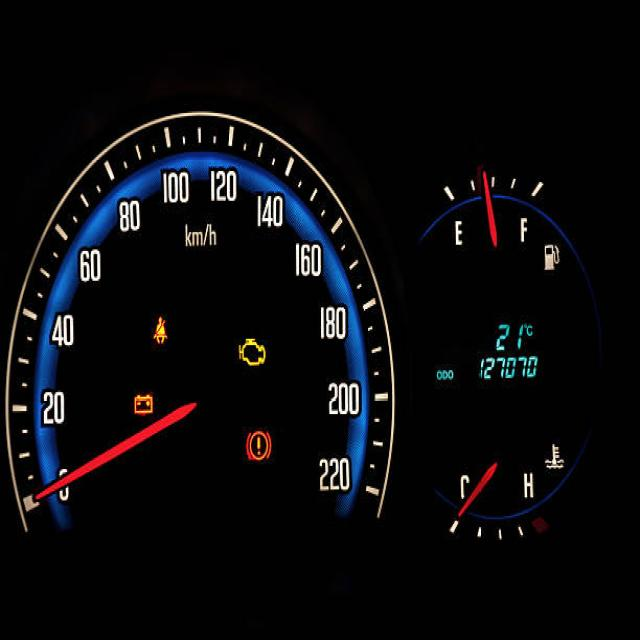Braking System Issue: (243, 427, 275, 464)
Charging System Issue: (132, 391, 155, 417)
Check Engine: (236, 334, 269, 370)
